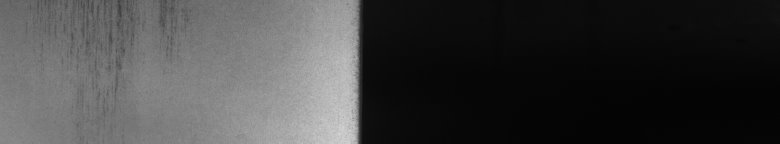ka: (64, 4, 184, 92)
